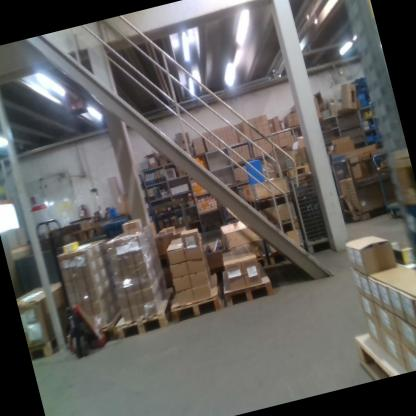pallet: (109, 285, 182, 342), (164, 272, 226, 324), (217, 257, 276, 306), (24, 316, 80, 361), (356, 330, 403, 382), (87, 303, 130, 344)
pallet_truck: (30, 209, 109, 357), (324, 139, 362, 225)
stillage: (331, 148, 401, 226), (288, 170, 331, 255)
